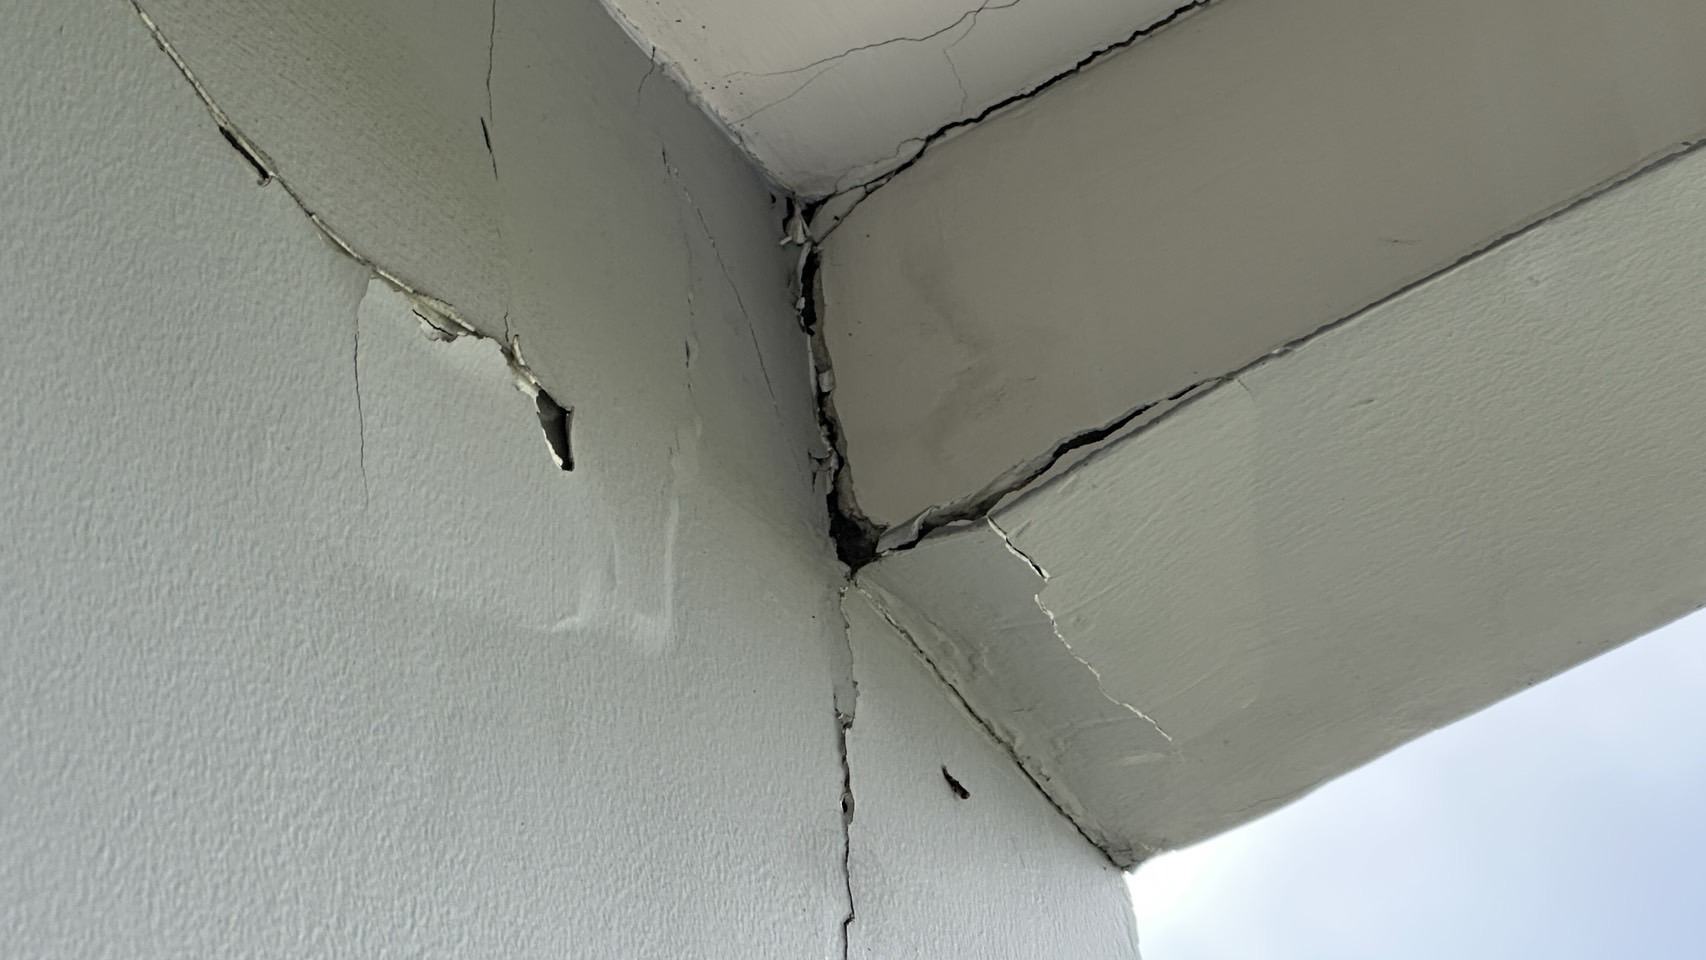High: (125, 1, 1702, 949)
